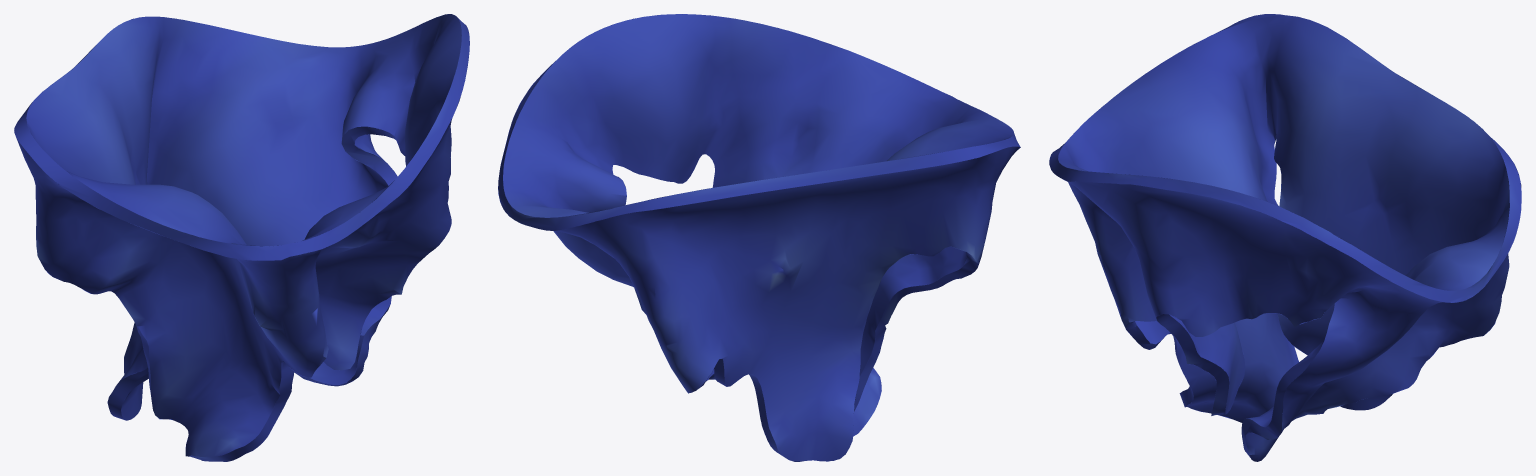
3 renders of one model, left to right at view 1: azimuth 30°, elevation 25°; view 2: azimuth 150°, elevation 25°; view 3: azimuth 270°, elevation 25°, orthographic. The views are drawn at different scales.
Parts seen in each view (by area): view 1: OCS14_maxS_1; view 2: OCS14_maxS_1; view 3: OCS14_maxS_1.
Boxes of the visible parts, x1,y1,x2,y2 form: OCS14_maxS_1: [14, 14, 469, 461]; OCS14_maxS_1: [498, 14, 1020, 461]; OCS14_maxS_1: [1049, 14, 1521, 461].
Bounding box in the file's own units: 1.45 × 1.1 × 1.33.
